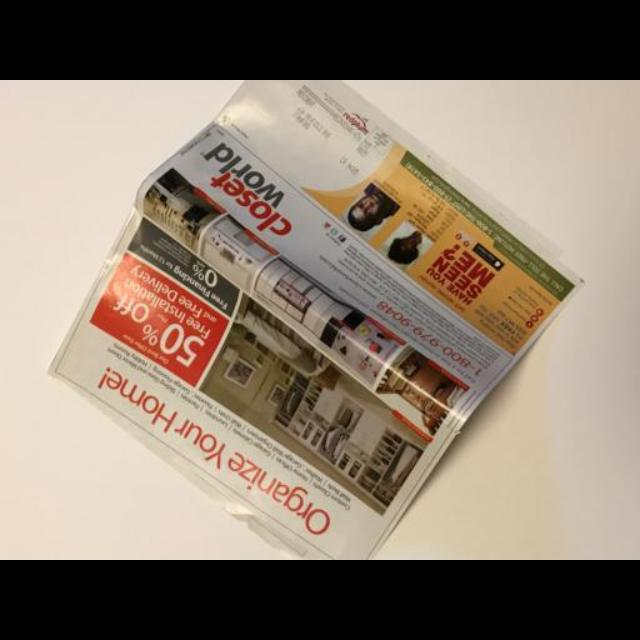papel: (51, 80, 576, 560)
